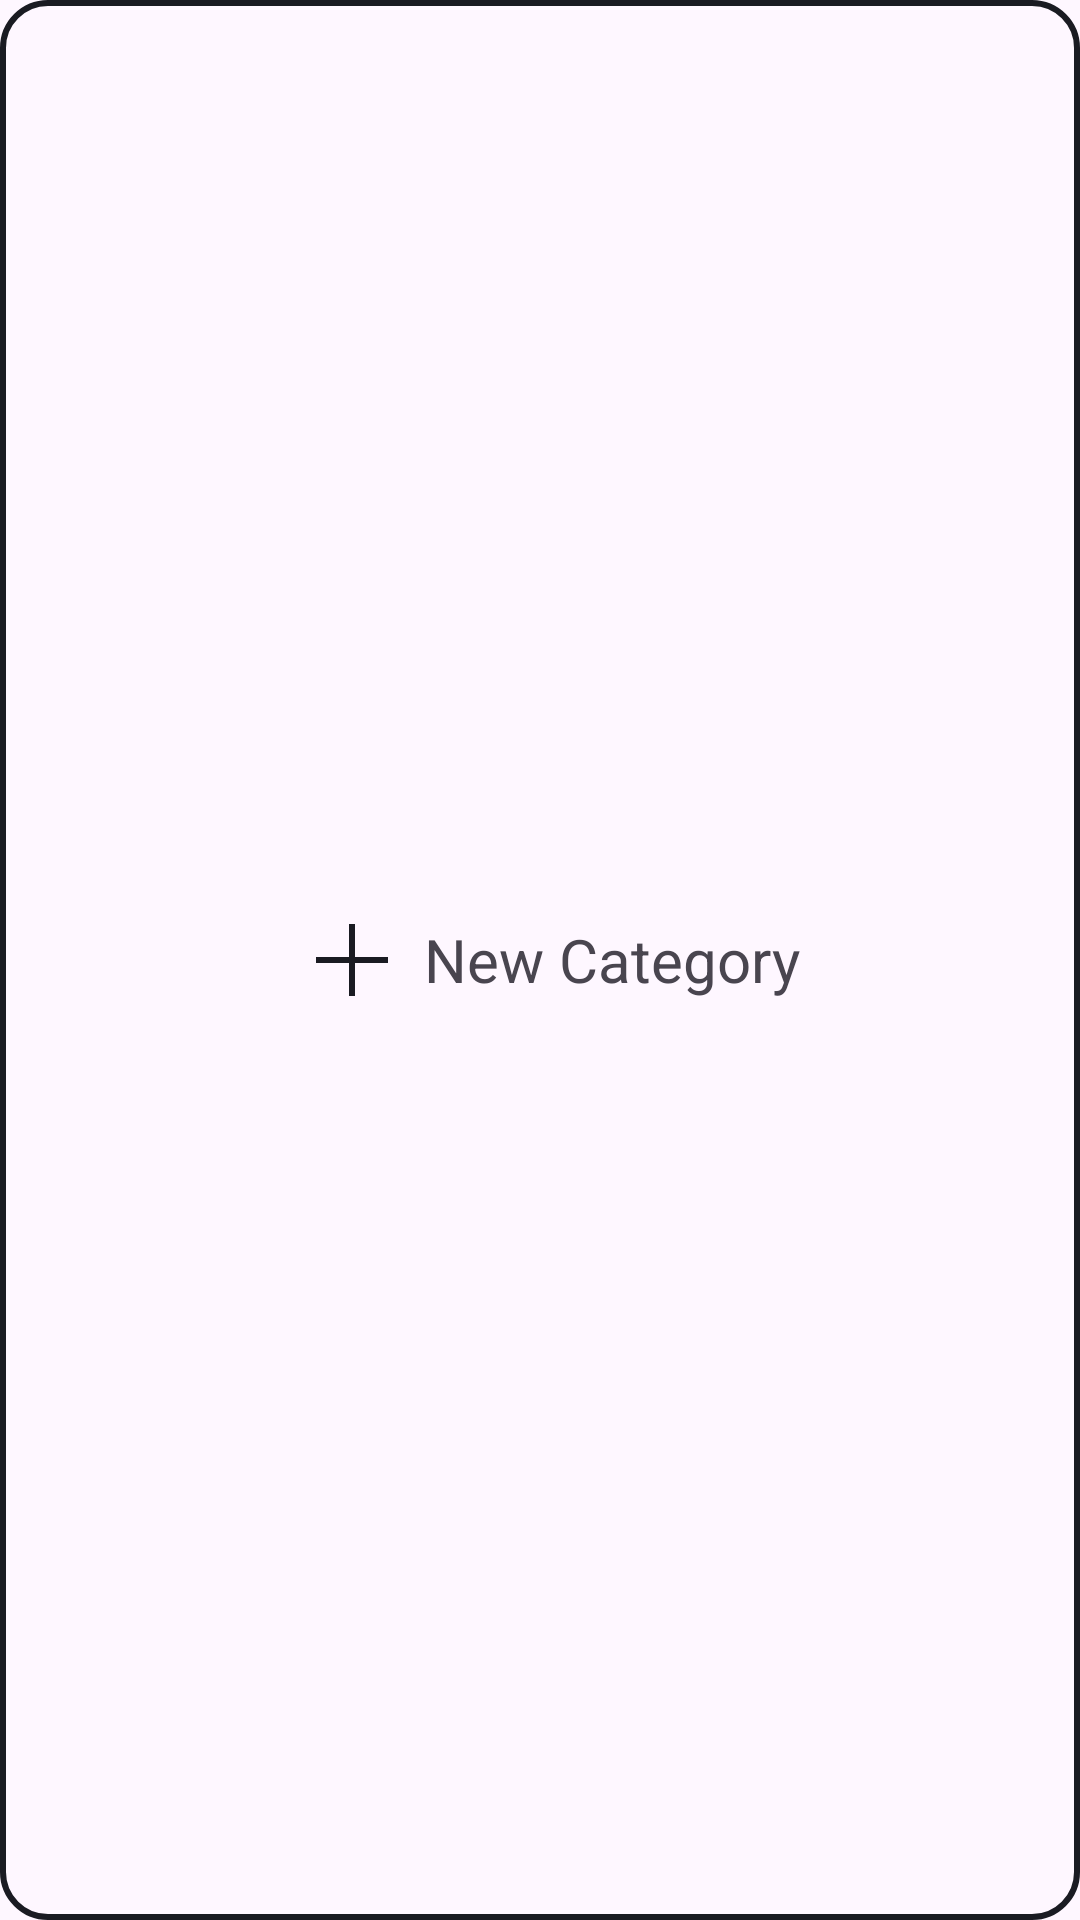

Icons on this 1080*1920 Android screen, each with its box as (x1, y1, x2, y2):
add: (316, 924, 388, 996)
